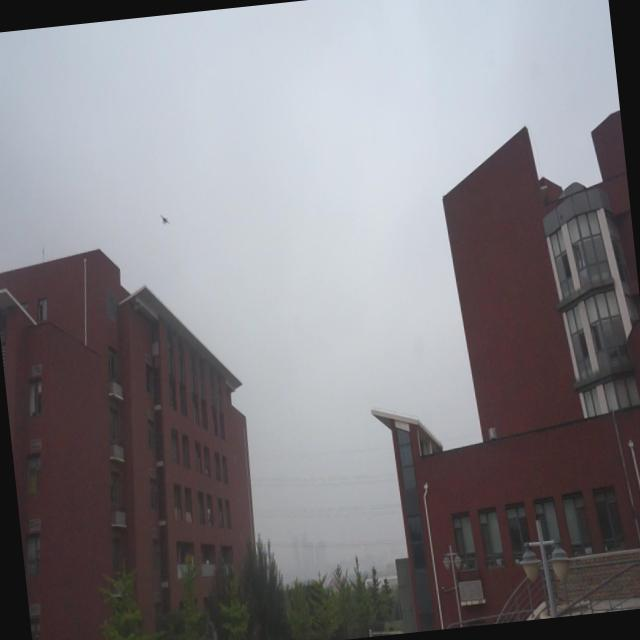drone: (158, 210, 172, 227)
